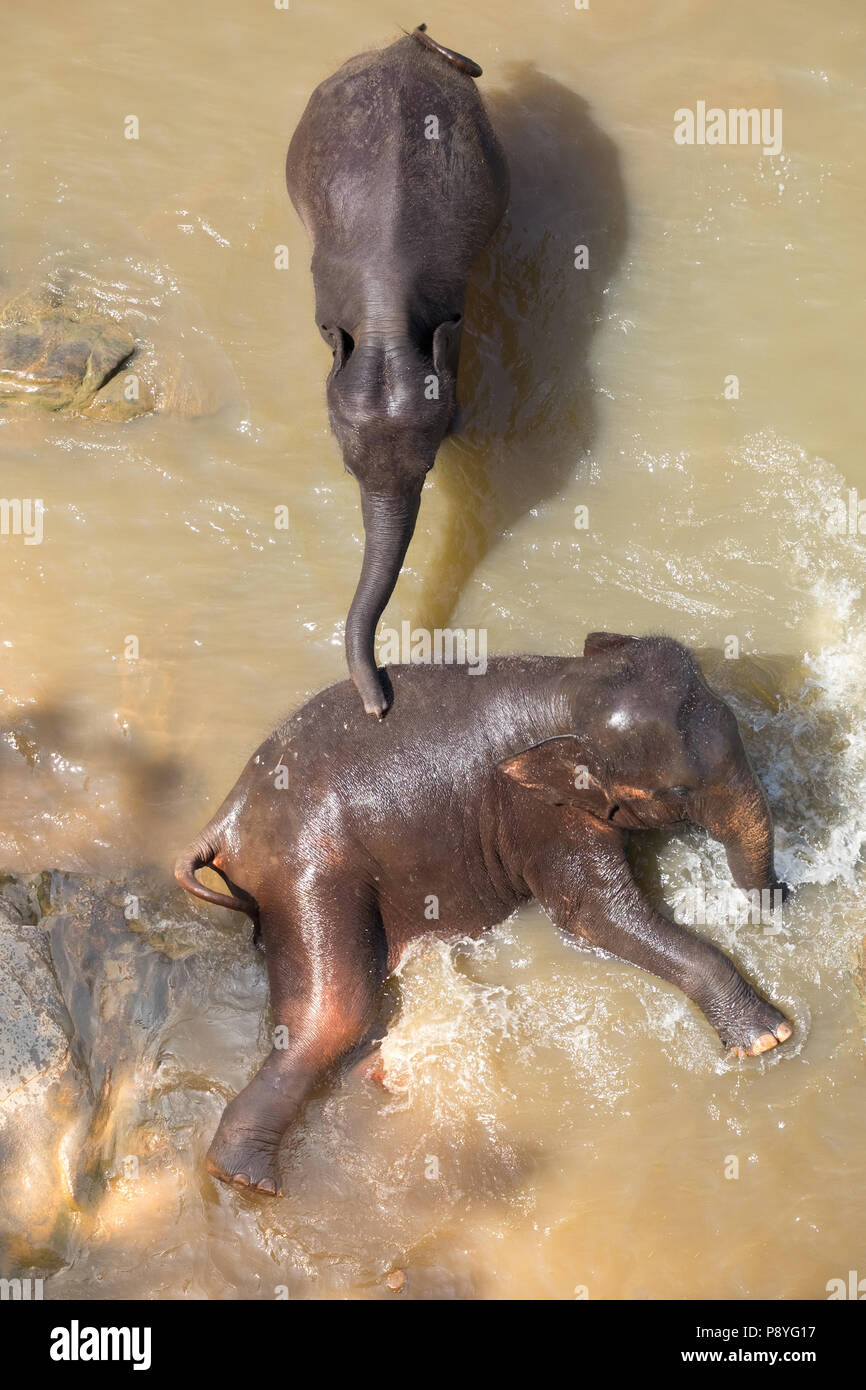Adult Elephant: (181, 632, 818, 1184), (221, 32, 595, 756)
